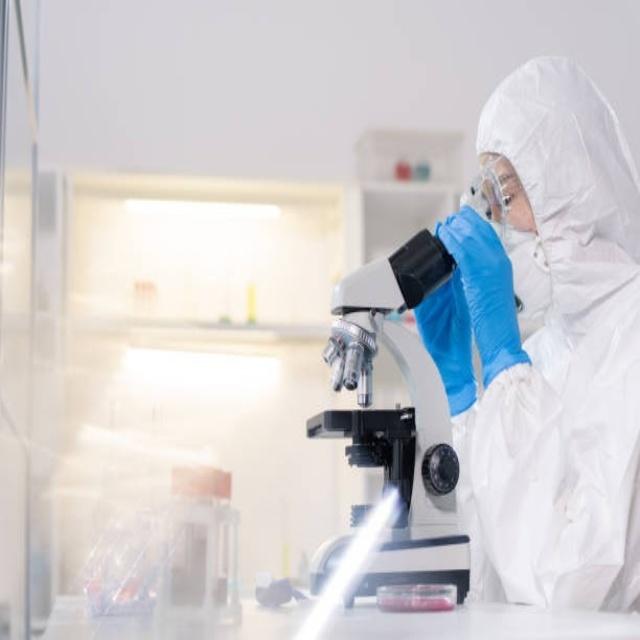Gafas: (463, 155, 518, 230)
Guantes: (436, 207, 533, 384), (408, 225, 475, 416)
Mascara: (490, 216, 557, 317)
